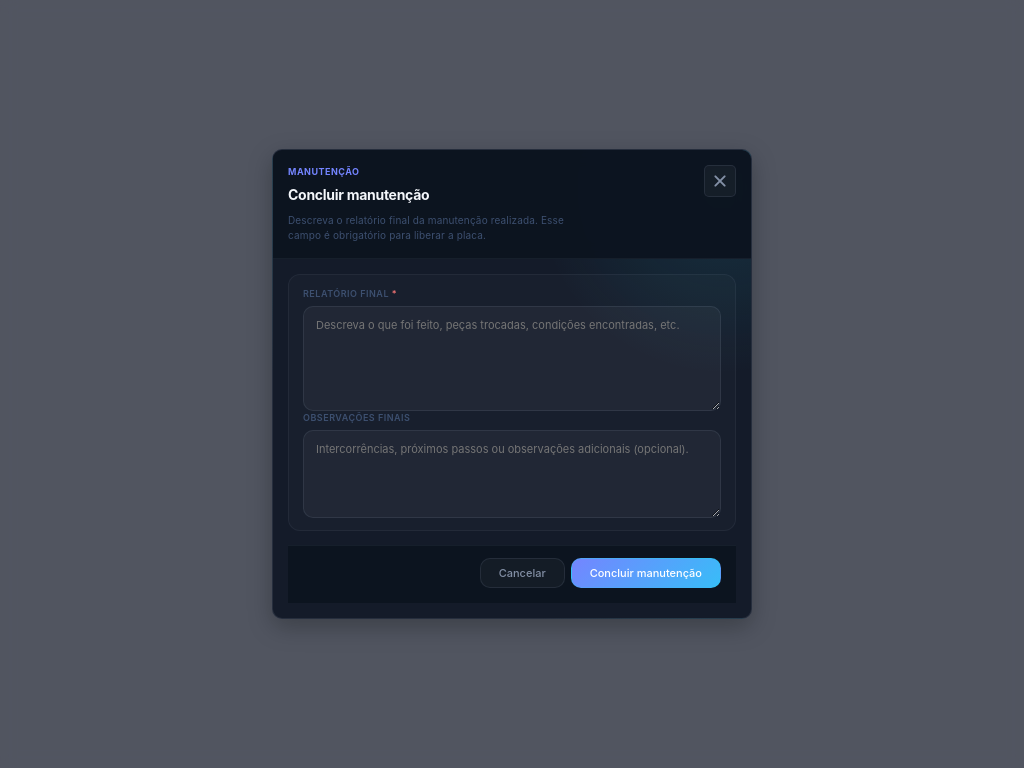
MaintenanceCompletionModal › valida relatório final obrigatório e impede o submit quando ausente
Click the button "Concluir manutenção": (646, 573) [571, 558, 721, 588]
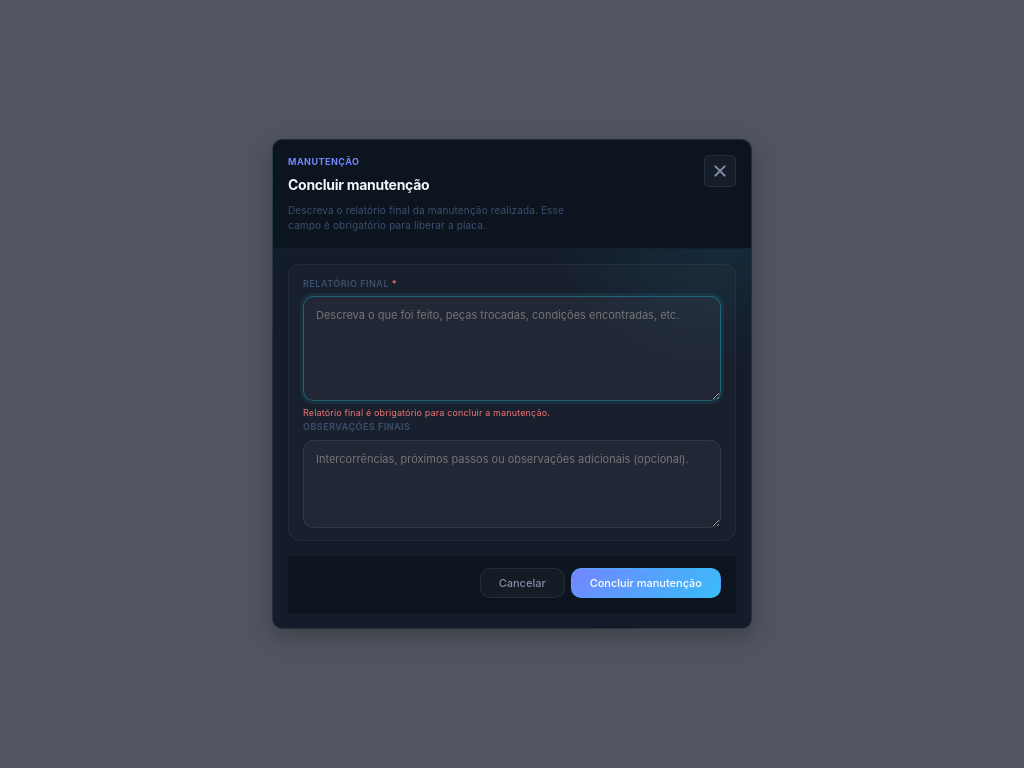
Now the text "Relatório final é obrigatório para concluir a manutenção." is shown, box [303, 407, 550, 418]
